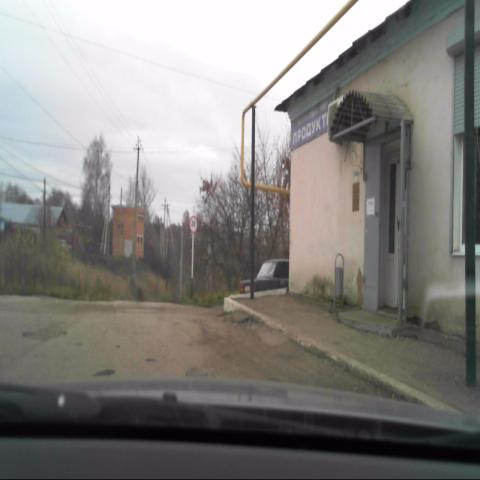3_24: (189, 215, 198, 234)
